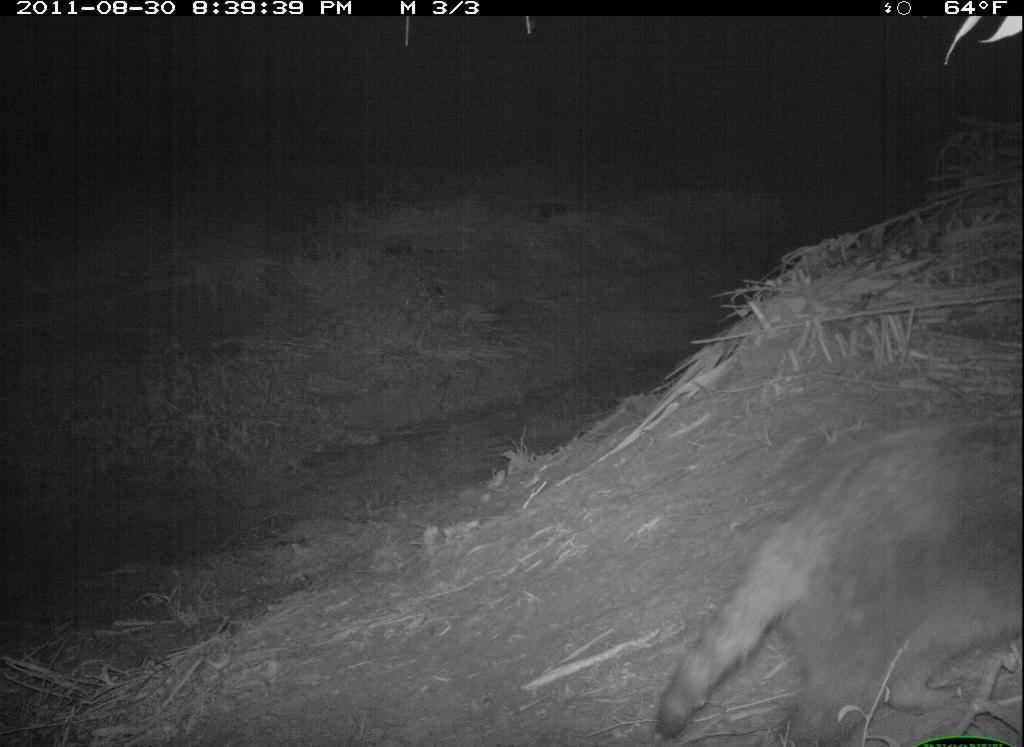raccoon: (642, 399, 1023, 747)
